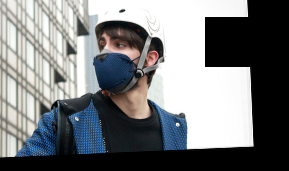with_mask: (93, 33, 142, 93)
